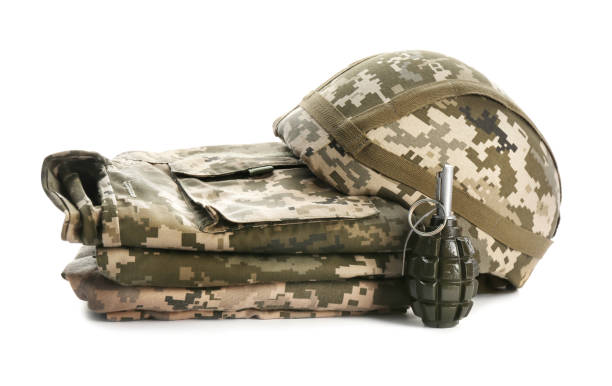e1: (403, 168, 477, 330)
